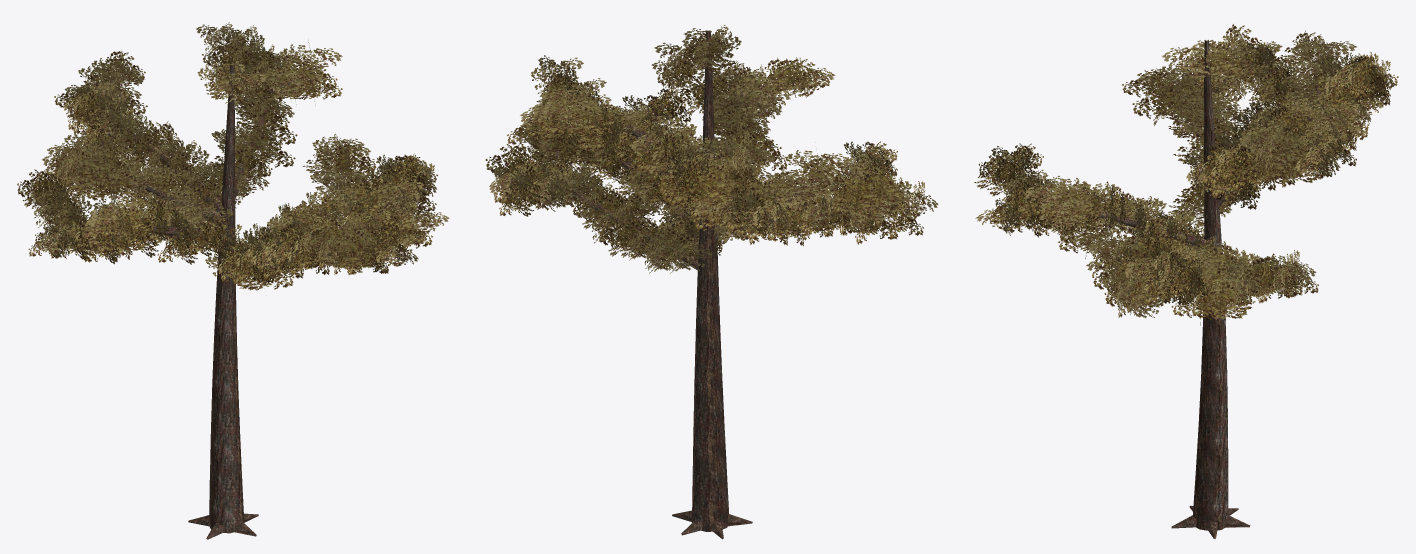
The model's file is tree_3d_03_golden_beige_lod0.glb.
3 renders of one model, left to right at view 1: azimuth 30°, elevation 25°; view 2: azimuth 150°, elevation 25°; view 3: azimuth 270°, elevation 25°, orthographic. The views are drawn at different scales.
Visible parts, largest first — view 1: foliage_cards, wood_geometry; view 2: foliage_cards, wood_geometry; view 3: foliage_cards, wood_geometry.
Part boxes in pixels (<box>): foliage_cards: <box>17,22,449,290</box>; wood_geometry: <box>46,45,417,539</box>; foliage_cards: <box>485,25,938,273</box>; wood_geometry: <box>531,30,893,539</box>; foliage_cards: <box>974,24,1398,327</box>; wood_geometry: <box>1014,40,1370,538</box>.
Bounding box in the file's own units: 9.89 × 10.63 × 8.44.
2 materials, 2 textured.
